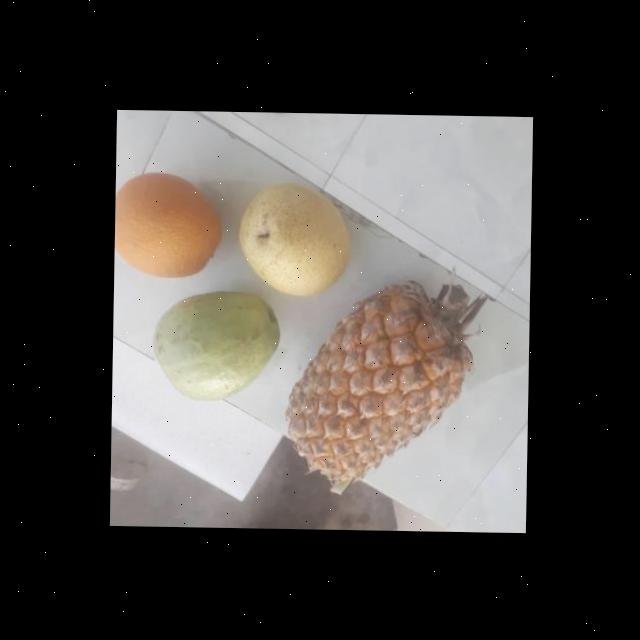guava: (152, 291, 282, 398)
orange: (113, 166, 222, 282)
pear: (235, 182, 359, 298)
pineapple: (288, 274, 472, 478)
